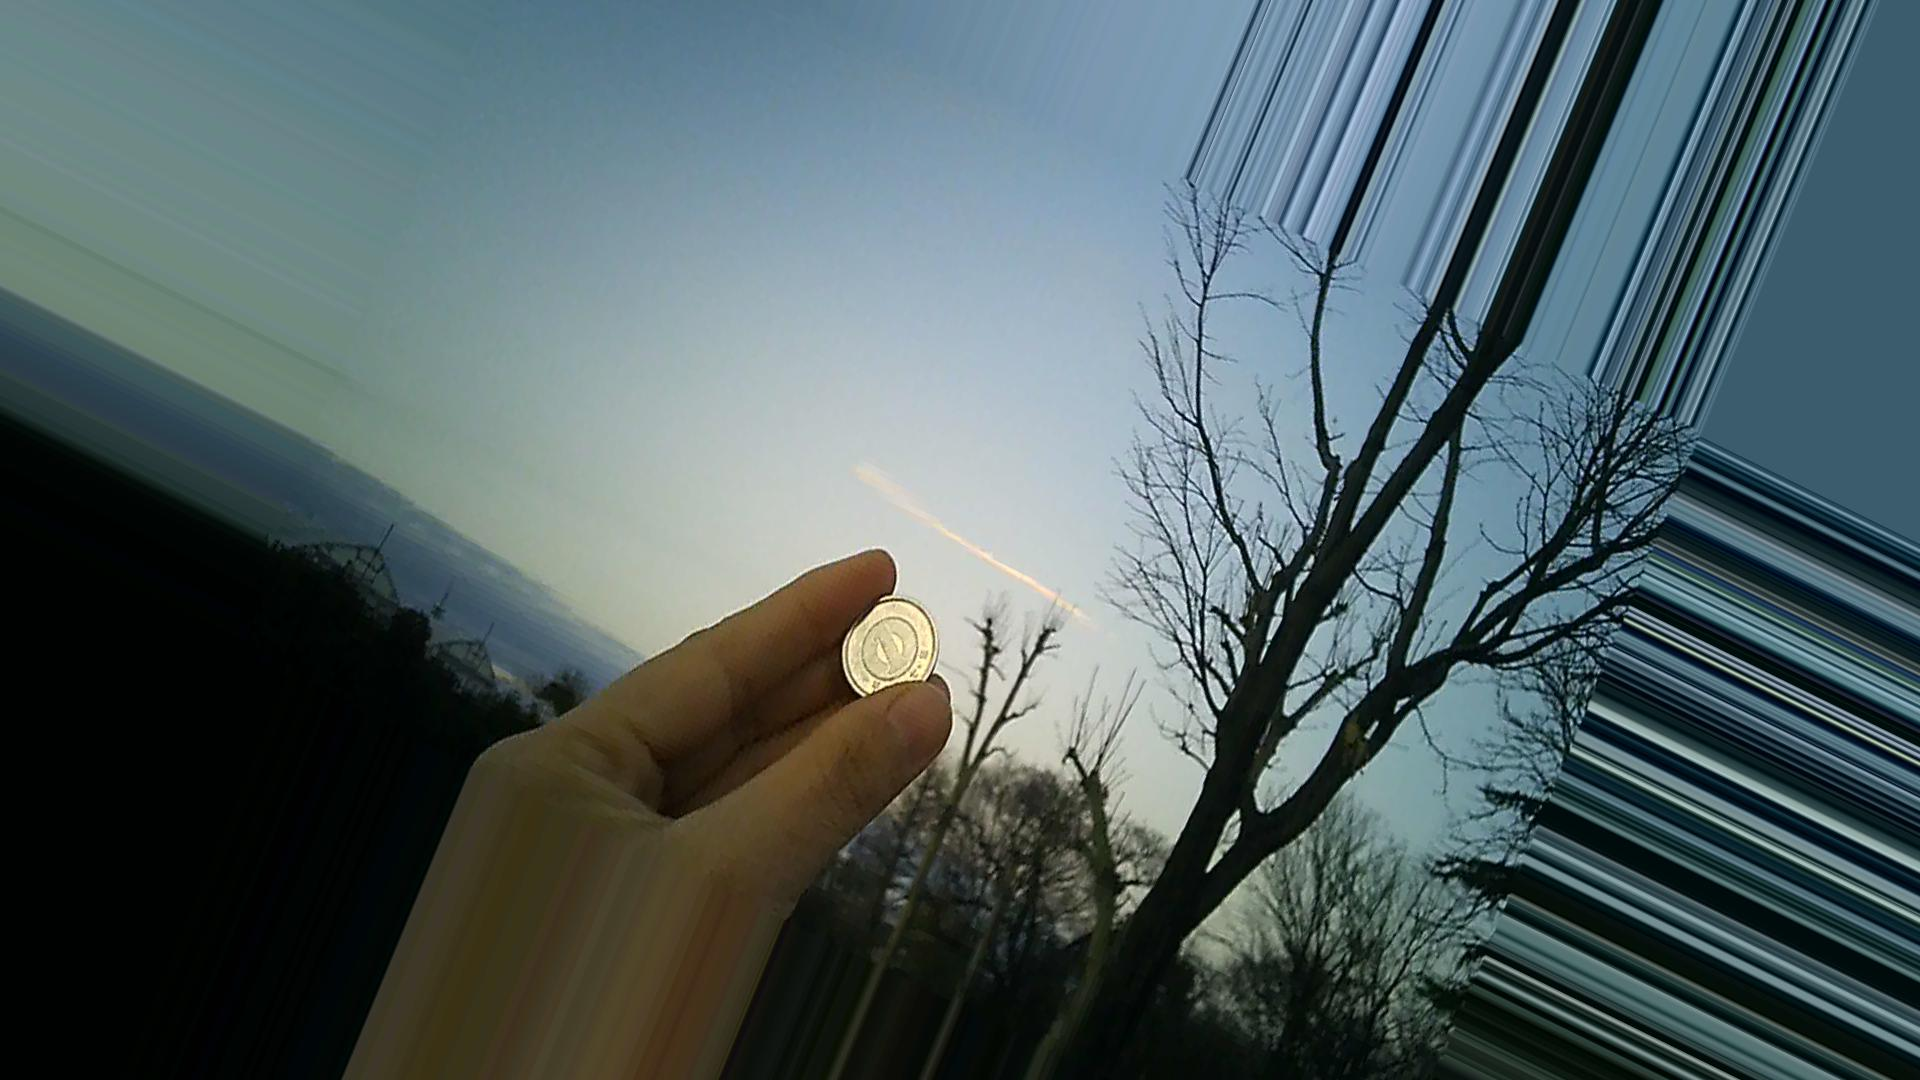1 Yen: (829, 587, 943, 702)
